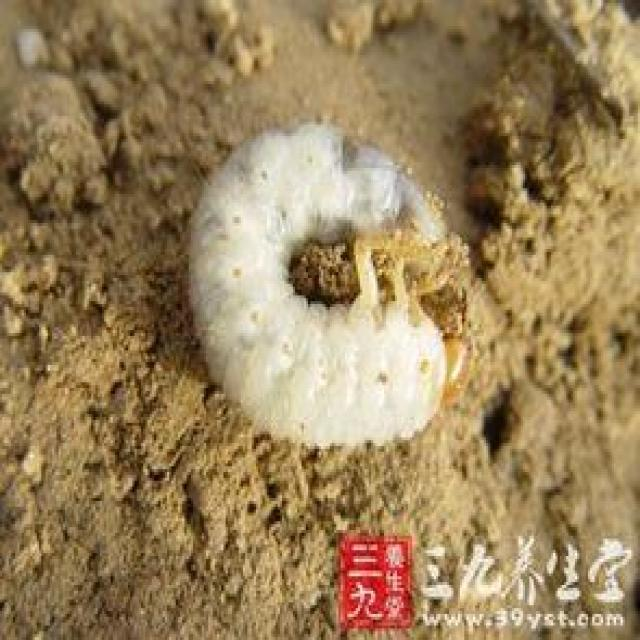Grub-Adult-: (172, 116, 476, 468)
